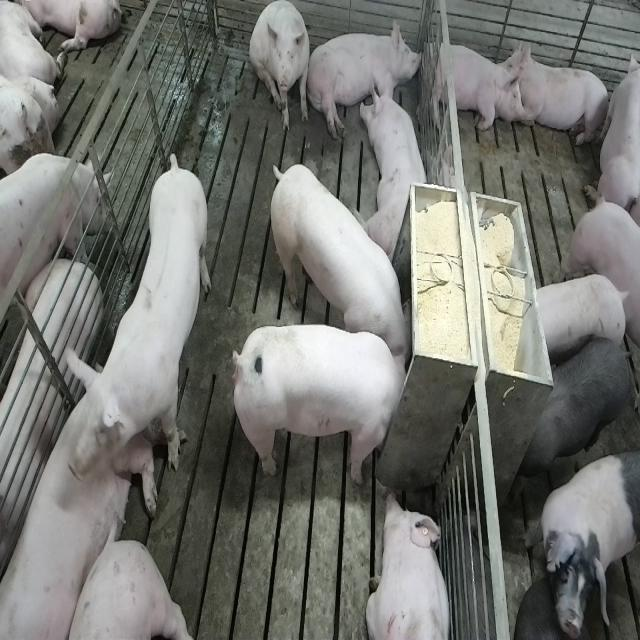Feeding: (265, 160, 412, 368), (226, 321, 408, 485)
Lateral_lying: (0, 258, 100, 596), (306, 15, 424, 142)
Sitting: (250, 1, 311, 135)
Standing: (58, 158, 212, 488), (514, 337, 638, 498), (0, 157, 102, 343), (536, 454, 636, 612), (565, 192, 637, 359), (532, 274, 628, 358)
Sternal_lying: (0, 364, 150, 634), (365, 489, 453, 640), (365, 71, 433, 260), (510, 42, 612, 150), (424, 36, 528, 138)
